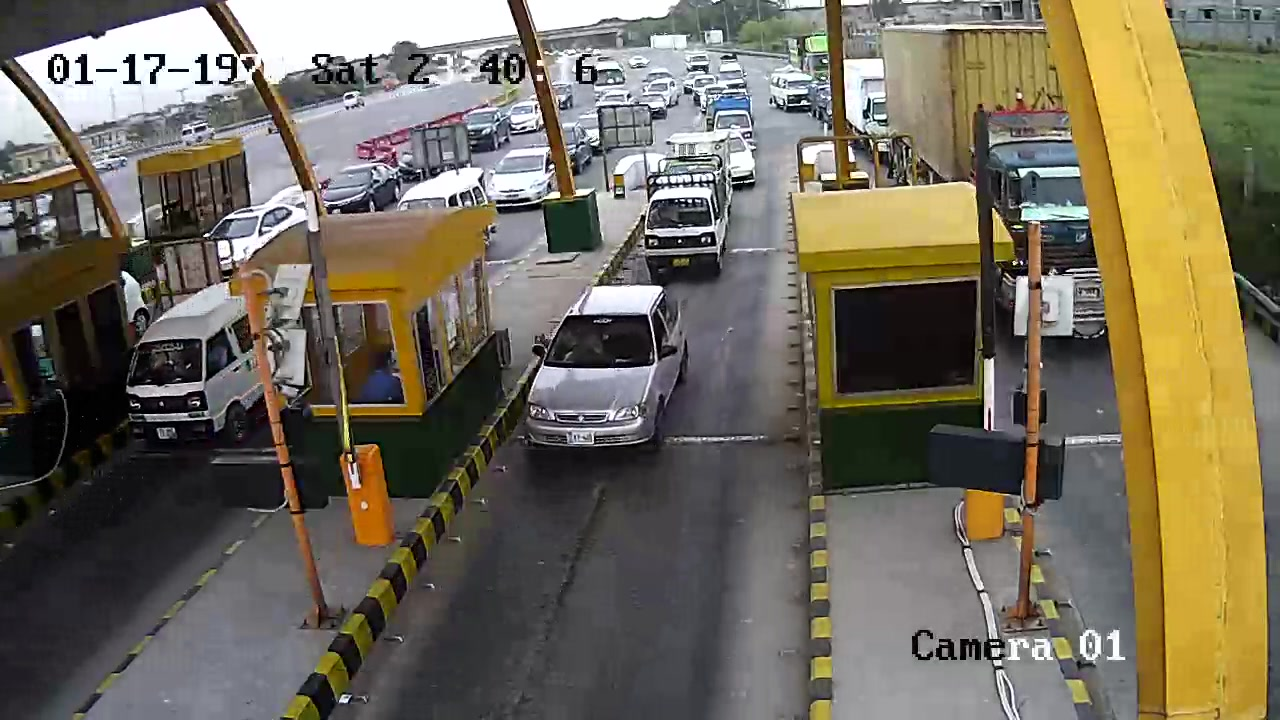F1: (520, 285, 692, 471)
